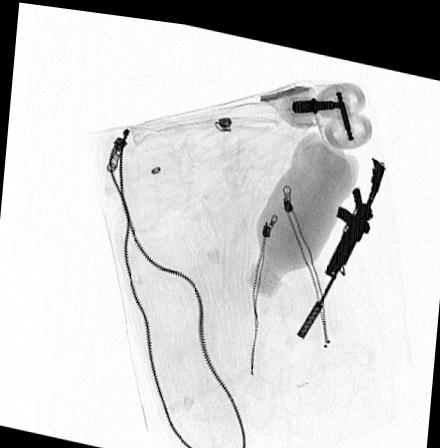Gun: (293, 147, 386, 334)
